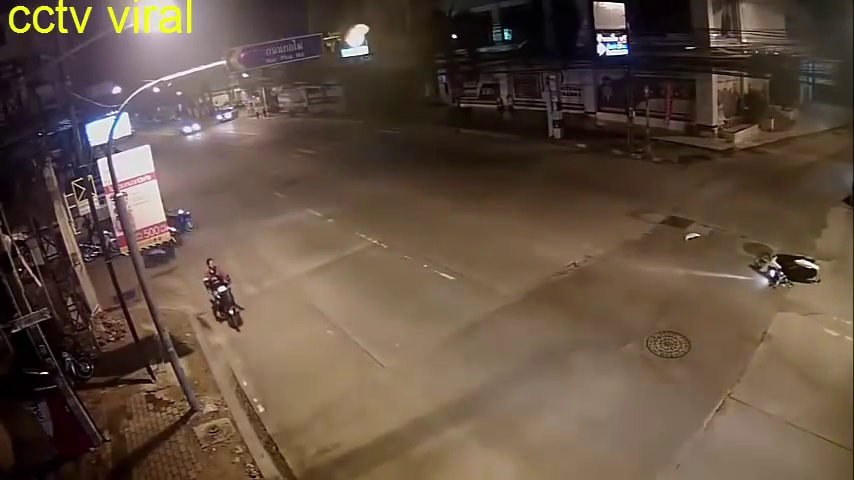motorbike: (205, 258, 241, 331)
